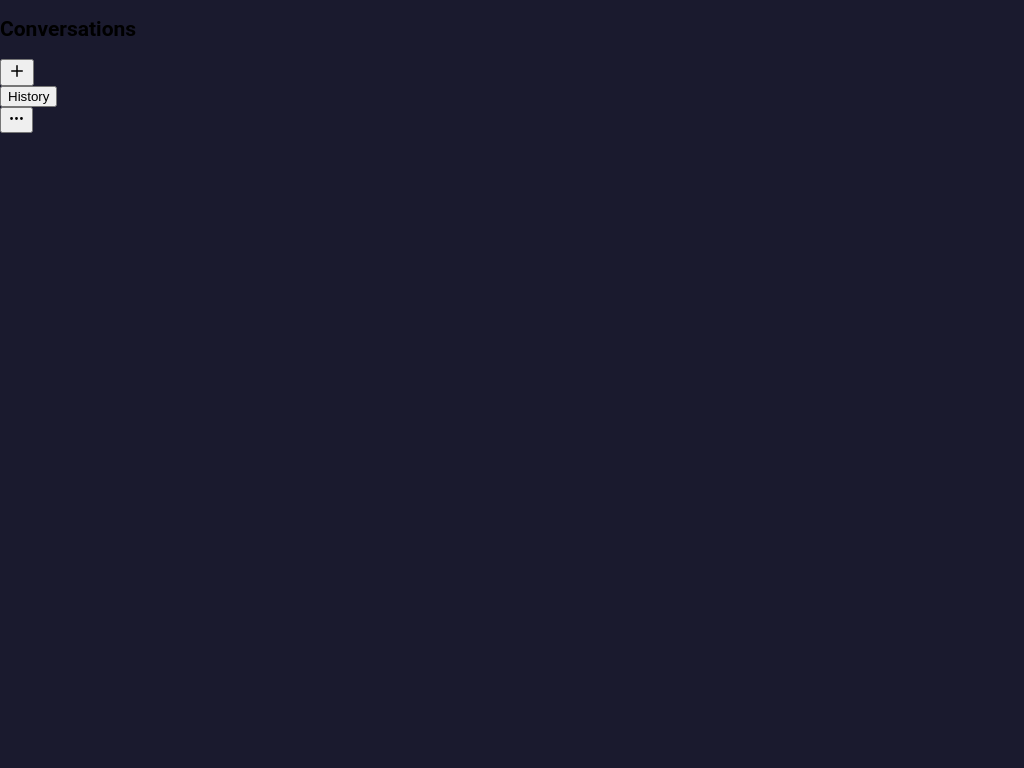
Scenario: delete is a separate accessible button, asks for confirmation and Cancel preserves the chat
The image size is (1024, 768).
Click the button named "Conversation options: History": (16, 120) x1=0 y1=107 x2=33 y2=133
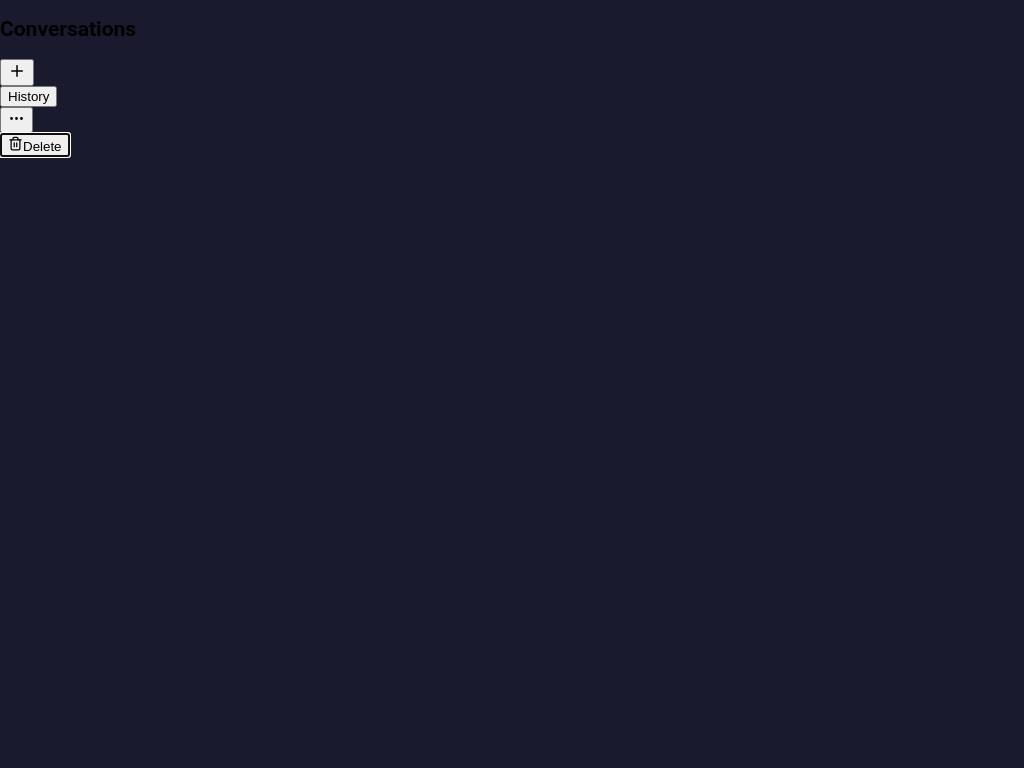
Click the menu item "Delete": (35, 145) x1=0 y1=133 x2=70 y2=157
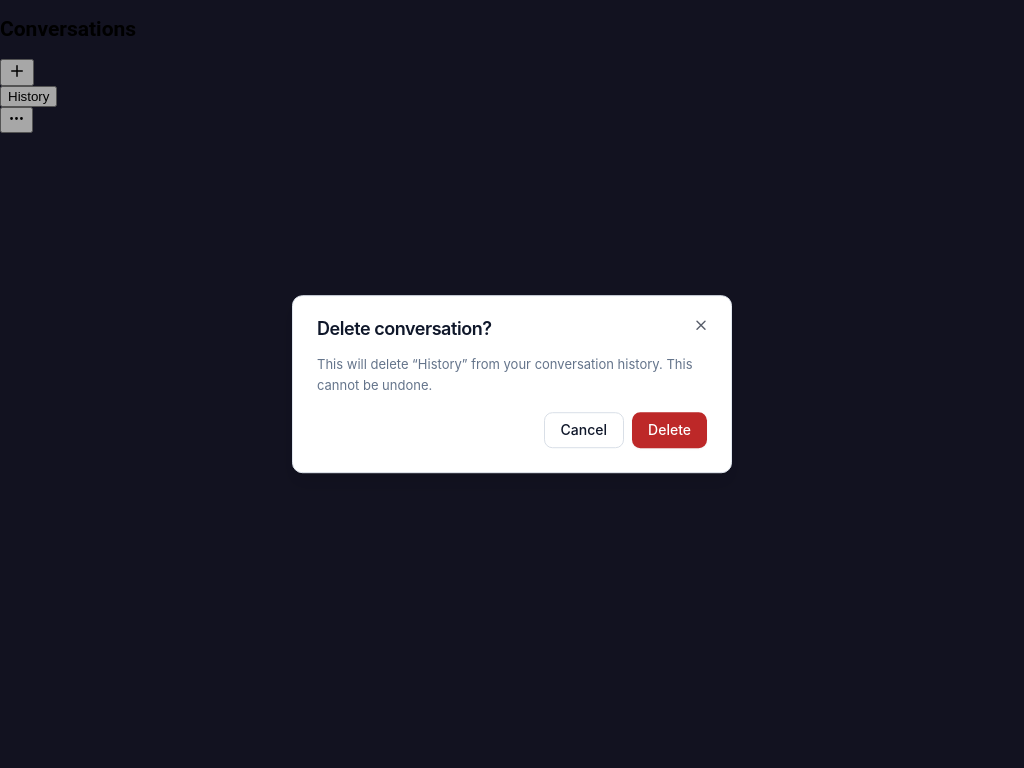
Expected: the dialog with class "agent-delete-dialog" shows "History", x1=418 y1=356 x2=462 y2=372
Expected: the button "Cancel" is shown
Click the button "Cancel": (584, 430) x1=544 y1=412 x2=624 y2=448
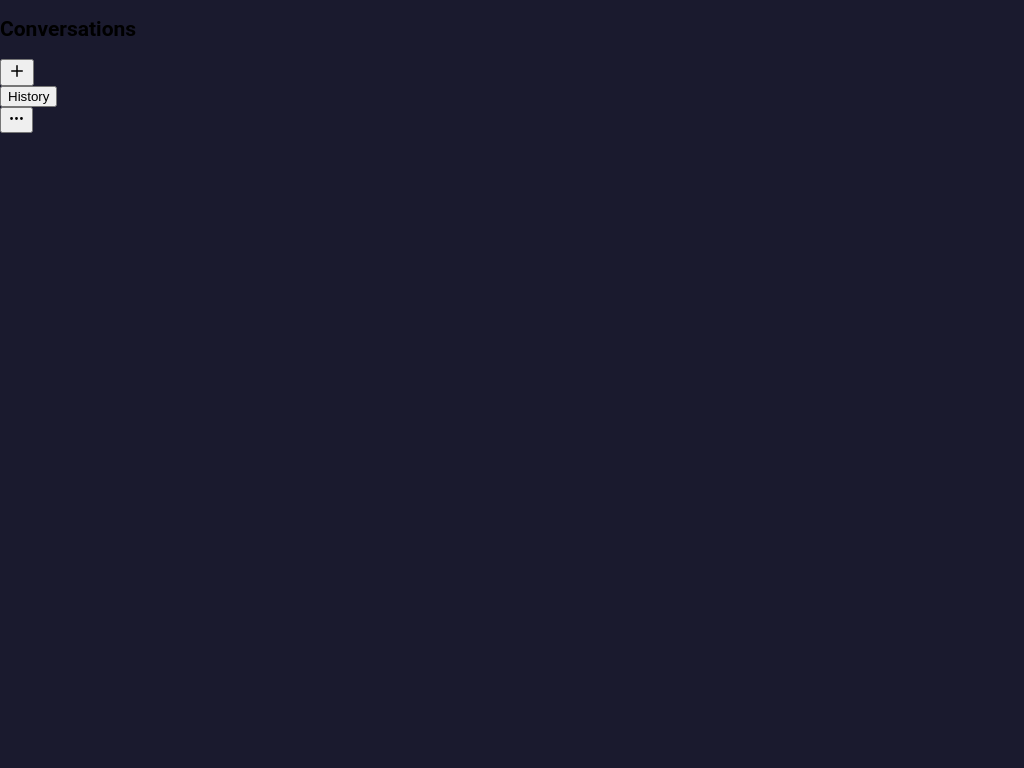
Expected: the dialog with class "agent-delete-dialog" is gone
